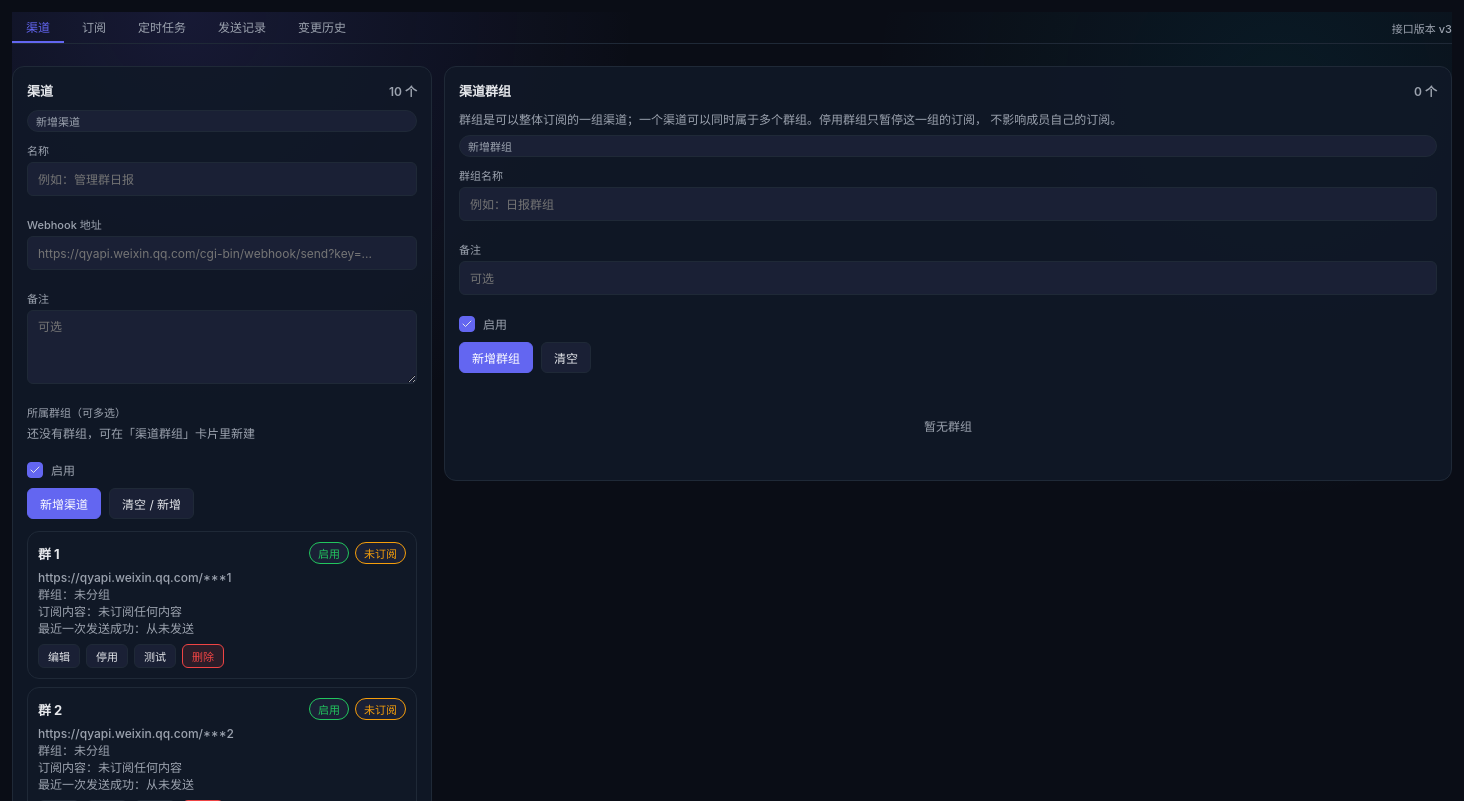
Test: 订阅多选列表在 0 类内容时的空态（U13） › 有内容类型时多选列表照旧（空态不能把正常形态顶掉）
This screenshot has width=1464, height=801.
Click the button "订阅" at (94, 28), box [68,12,120,43]
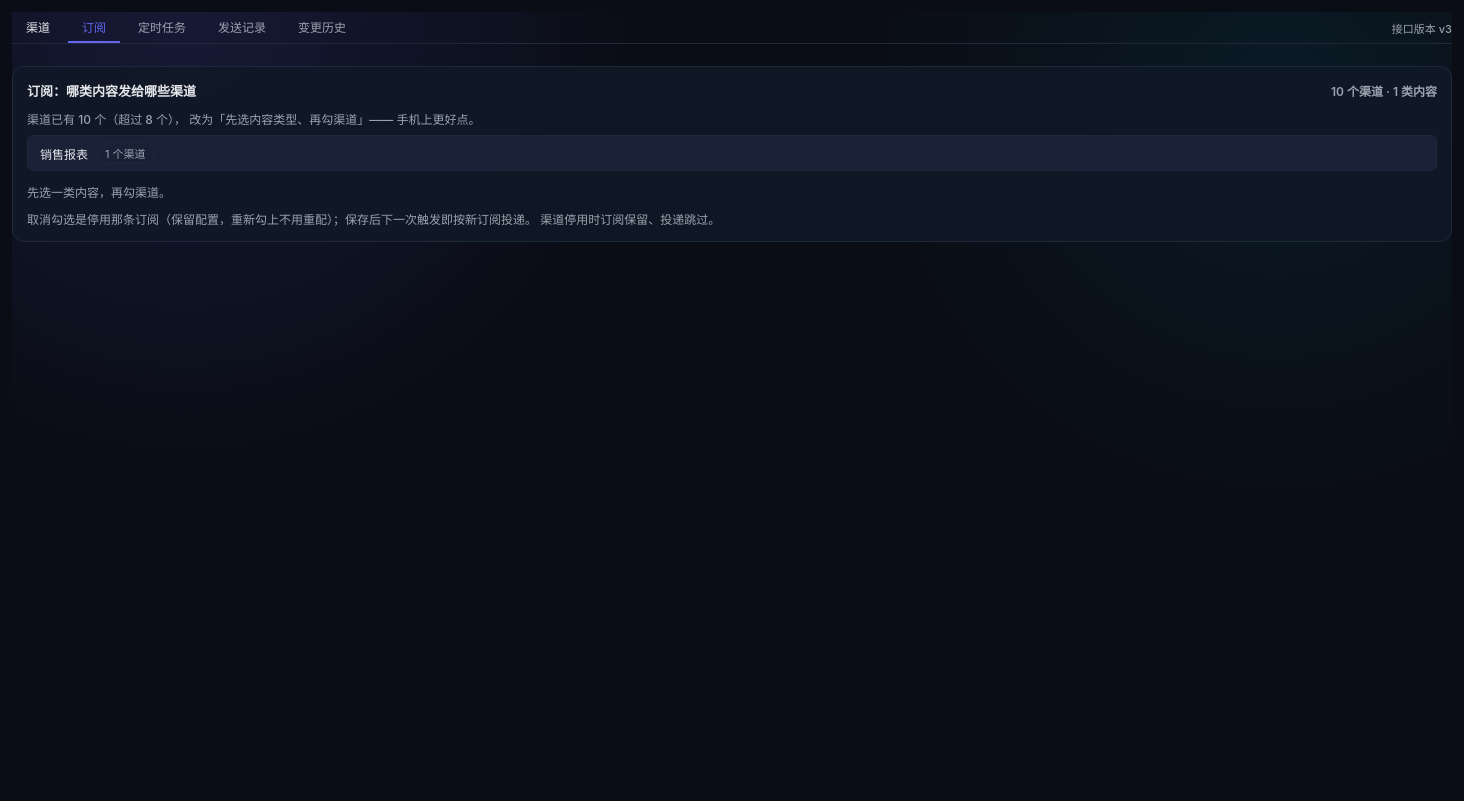
Check: the number of buttons with class "wp-pick-row" is 1, box [27,135,1437,171]
Check: the text "先选一类内容，再勾渠道。" is shown, box [27,185,171,200]
